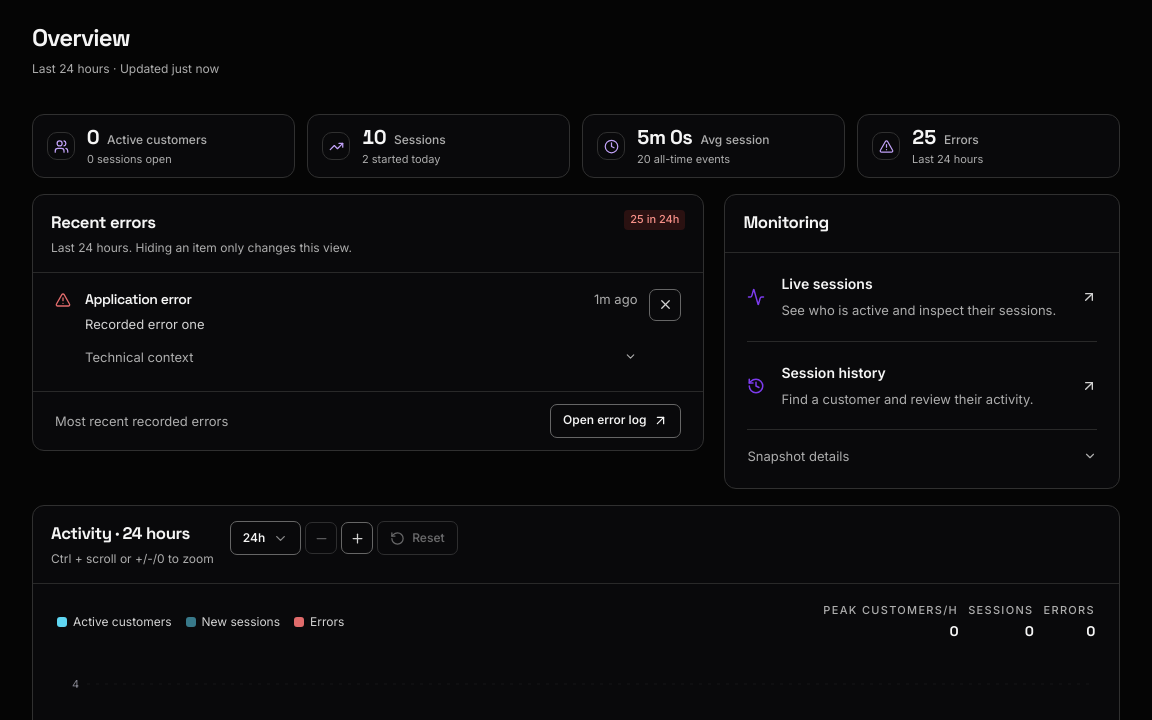
Test: monitoring overview workspace › keeps locally hidden errors counted and restores them without a backend write
Click the button named "Hide error one for this visit" at (665, 305), box [649,289,681,321]
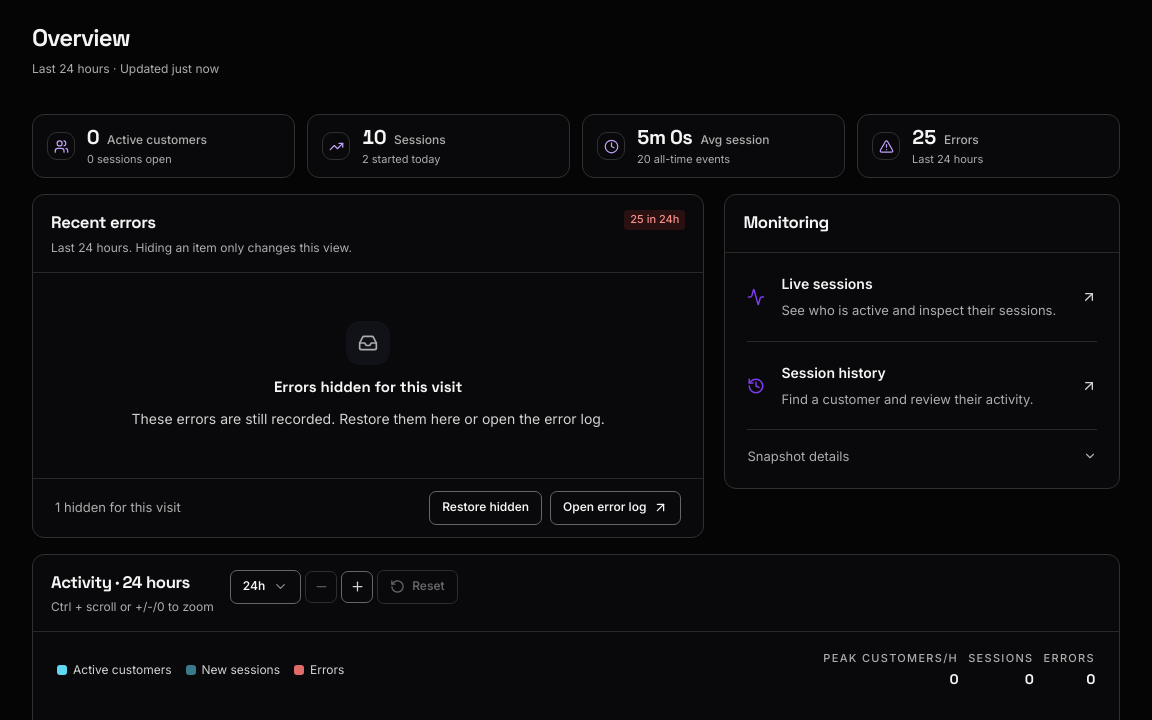
Expected: the text with class "badge" reads "25 in 24h", [624,210,685,230]
Expected: the text "Errors hidden for this visit" is shown, [274,375,462,398]
Click the button "Restore hidden" at (486, 508), box [429,490,542,524]
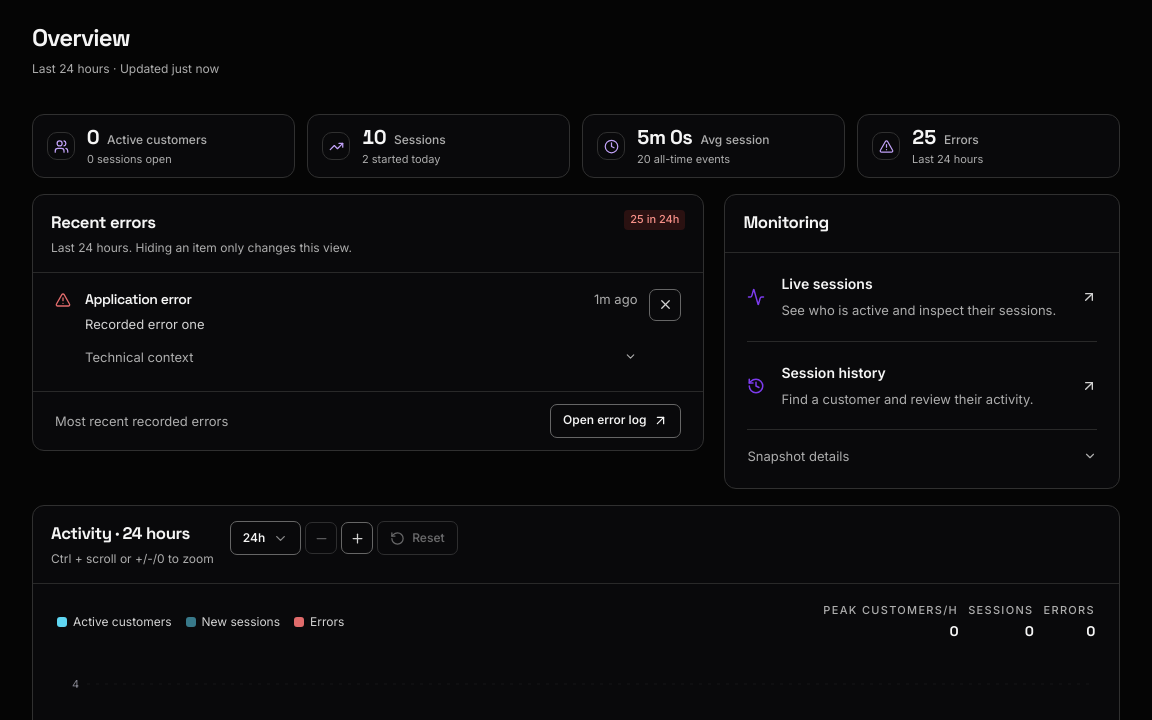
Expected: the number of list items with class "overview-error" is 1, [33,273,703,391]
